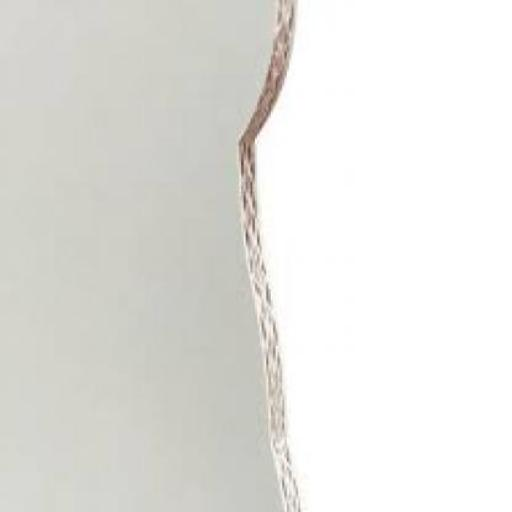cardboard: (236, 0, 510, 510)
